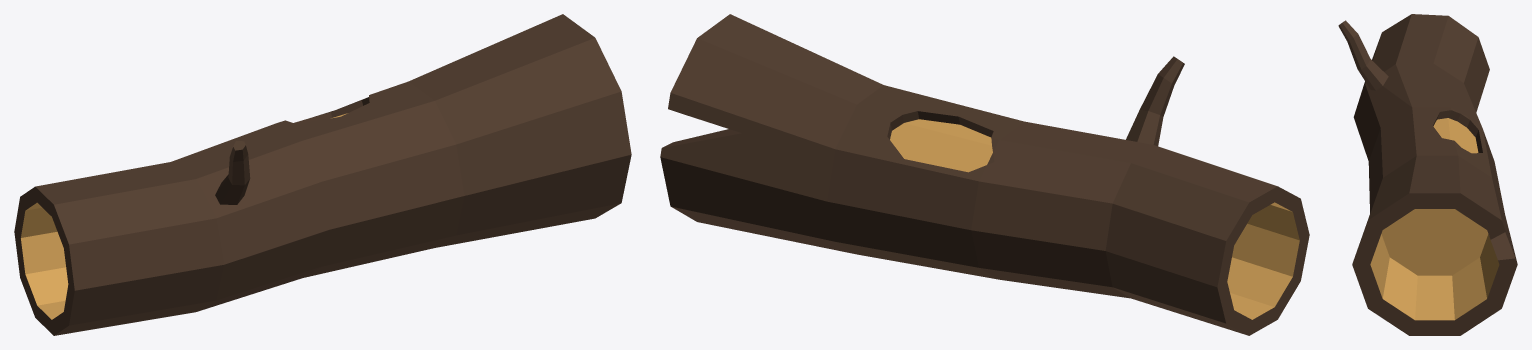
Rendered from Log.fbx.
3 views of the same model, side by side, from view 1: azimuth 30°, elevation 25°; view 2: azimuth 150°, elevation 25°; view 3: azimuth 270°, elevation 25° (orthographic). The views are drawn at different scales.
Parts seen in each view (by area): view 1: Log; view 2: Log; view 3: Log.
Boxes of the visible parts, left/top/right/bottom form: Log: left=14, top=14, right=631, bottom=335; Log: left=660, top=14, right=1309, bottom=335; Log: left=1338, top=14, right=1517, bottom=335.
Size of the model in its own units: 737 by 264 by 266.
